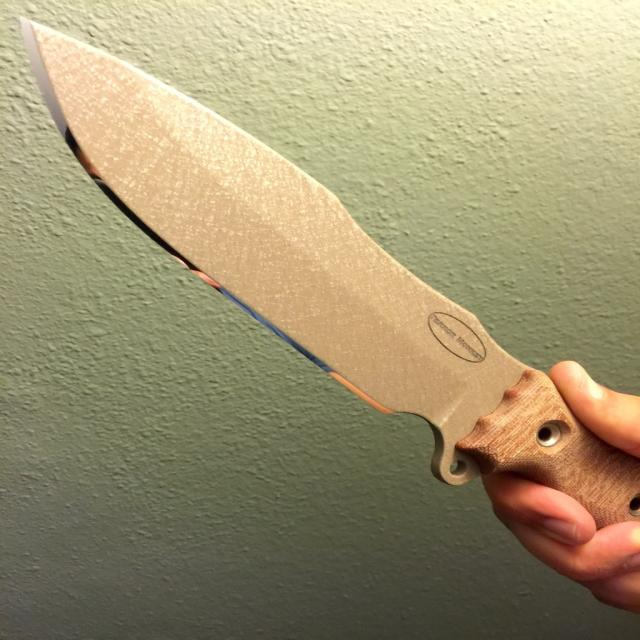Knife: (22, 22, 640, 526)
